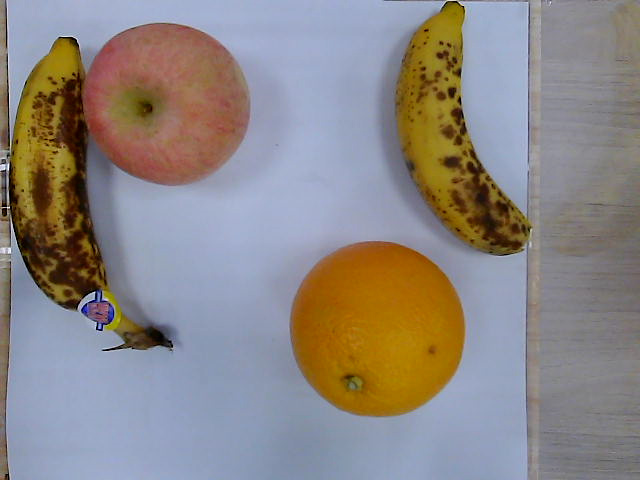fresh_apple: (81, 22, 253, 187)
fresh_orange: (286, 238, 465, 417)
rotten_banana: (8, 37, 173, 352), (394, 1, 536, 257)
